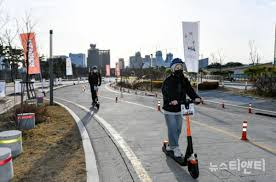helmet: (161, 57, 205, 181), (88, 65, 102, 110)
